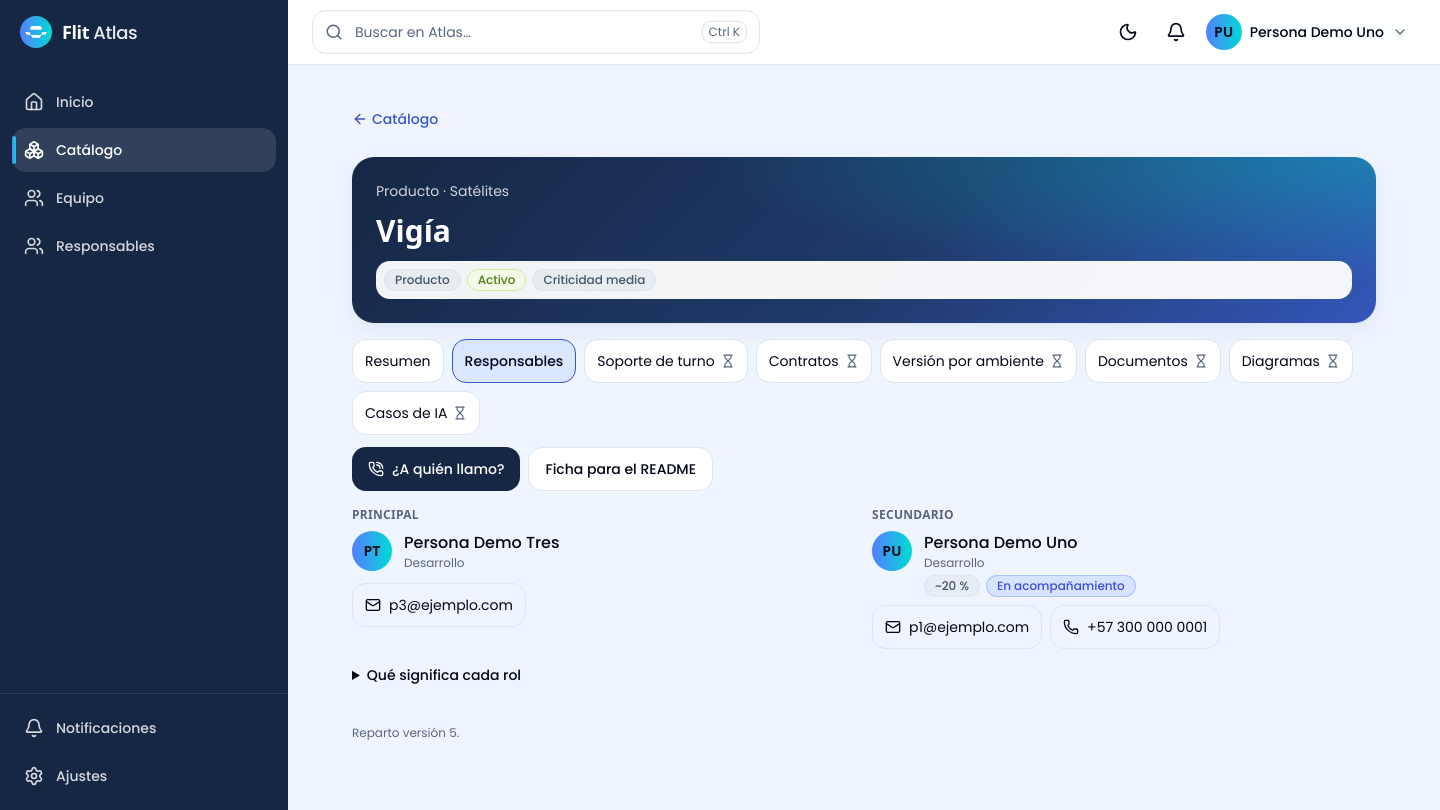
Test: responsables (HU 2.3 a 2.5) › en la ficha del aplicativo, «¿A quién llamo?» un sábado muestra el soporte de turno y el contacto
This screenshot has width=1440, height=810.
Expected: the text "Persona Demo Tres" is shown, [404,531,560,555]
Click the button "¿A quién llamo?" at (436, 469), box [352,447,520,491]
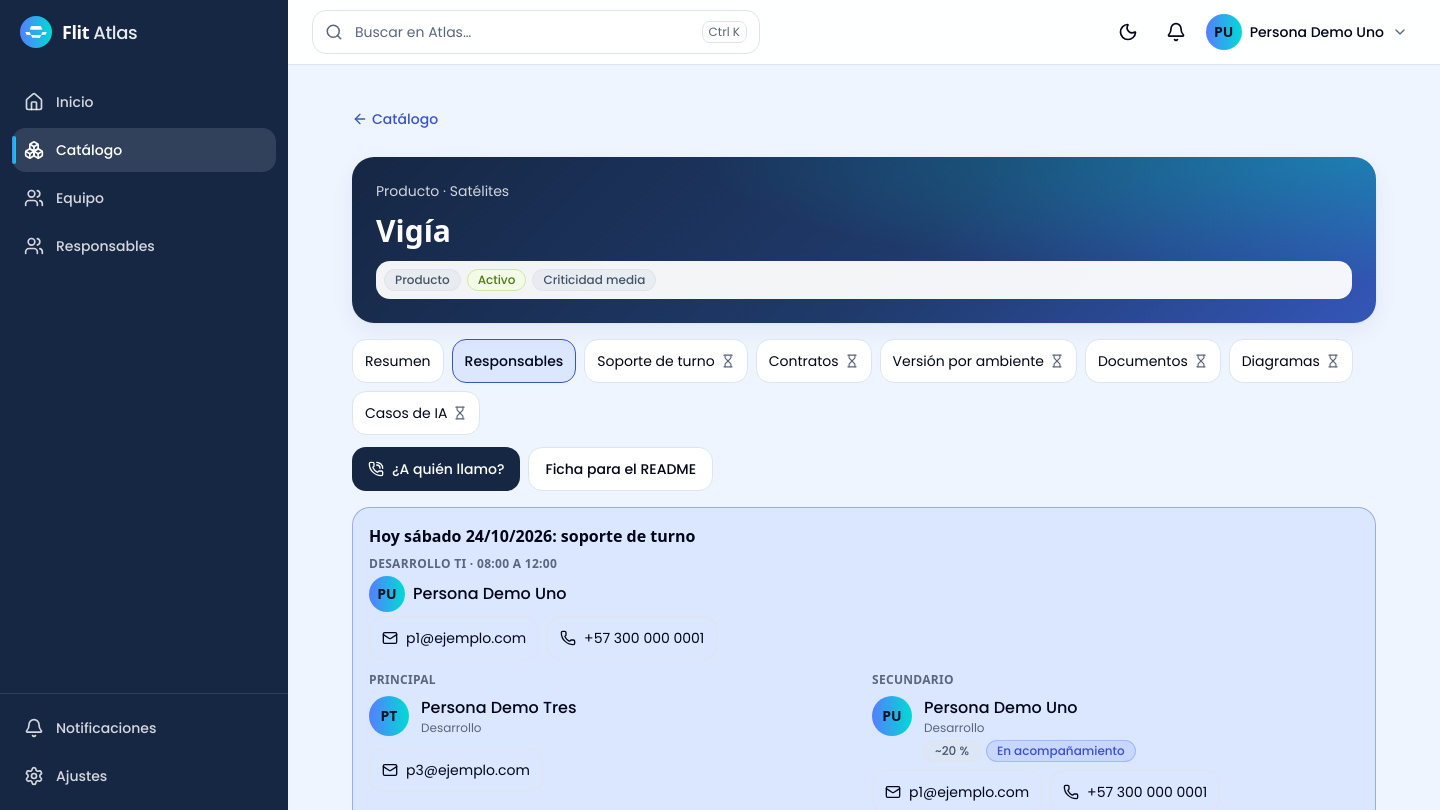
Now the text "Desarrollo TI · 08:00 a 12:00" is shown, box [369,555,557,572]
